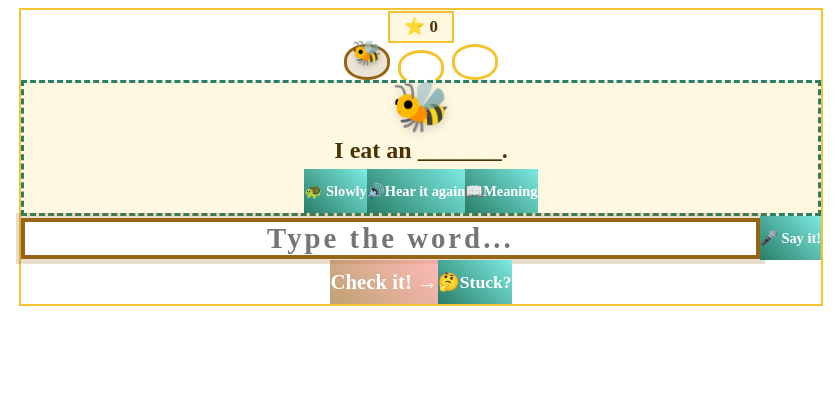
it: SpellMode: Stuck? shows the word without counting it › moves on through the one timer, so Next Word in the gap cannot skip a word
Click the button "🤔 Stuck?": (475,282) [438,260,512,304]
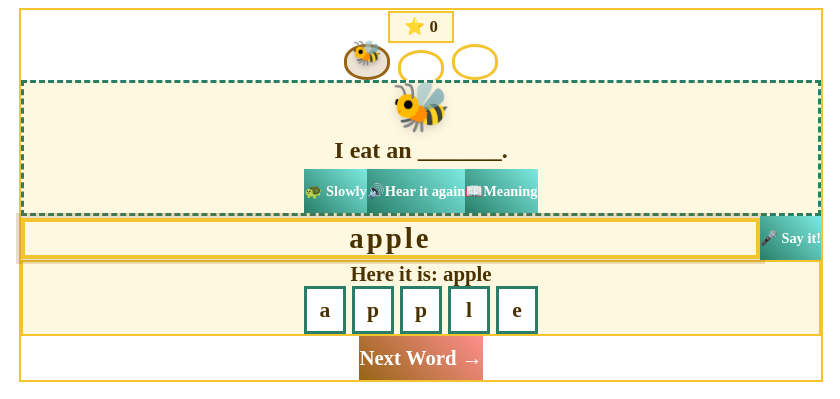
Click the button "Next Word →": (421,358) [359,336,483,380]
Wait 10000 ms
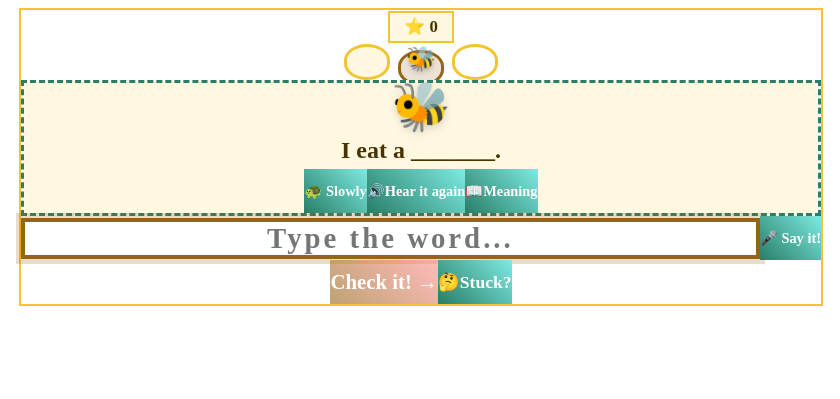
Expected: the text "I eat a _______." is shown, [341,131,501,169]
